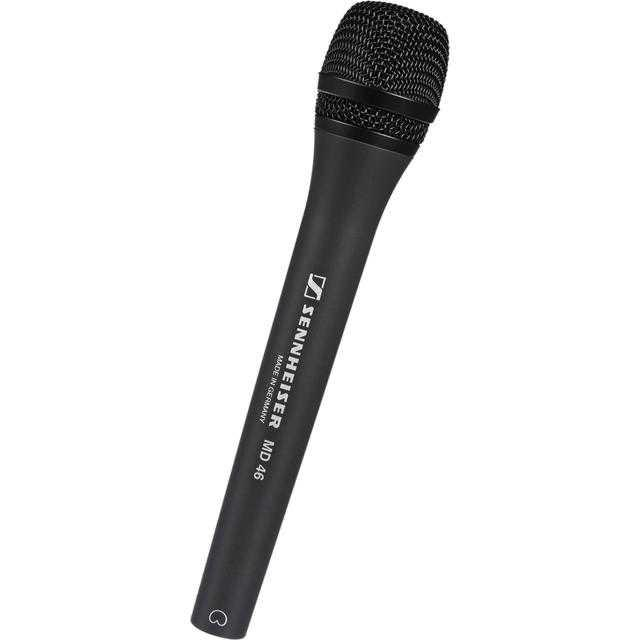microphone: (190, 8, 452, 634)
